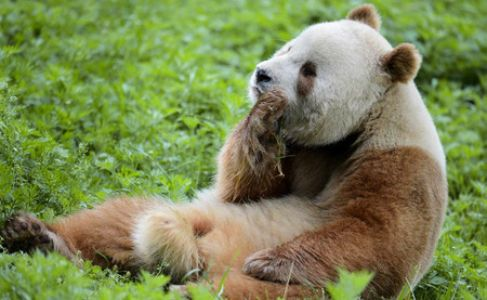bear: (42, 3, 453, 293)
